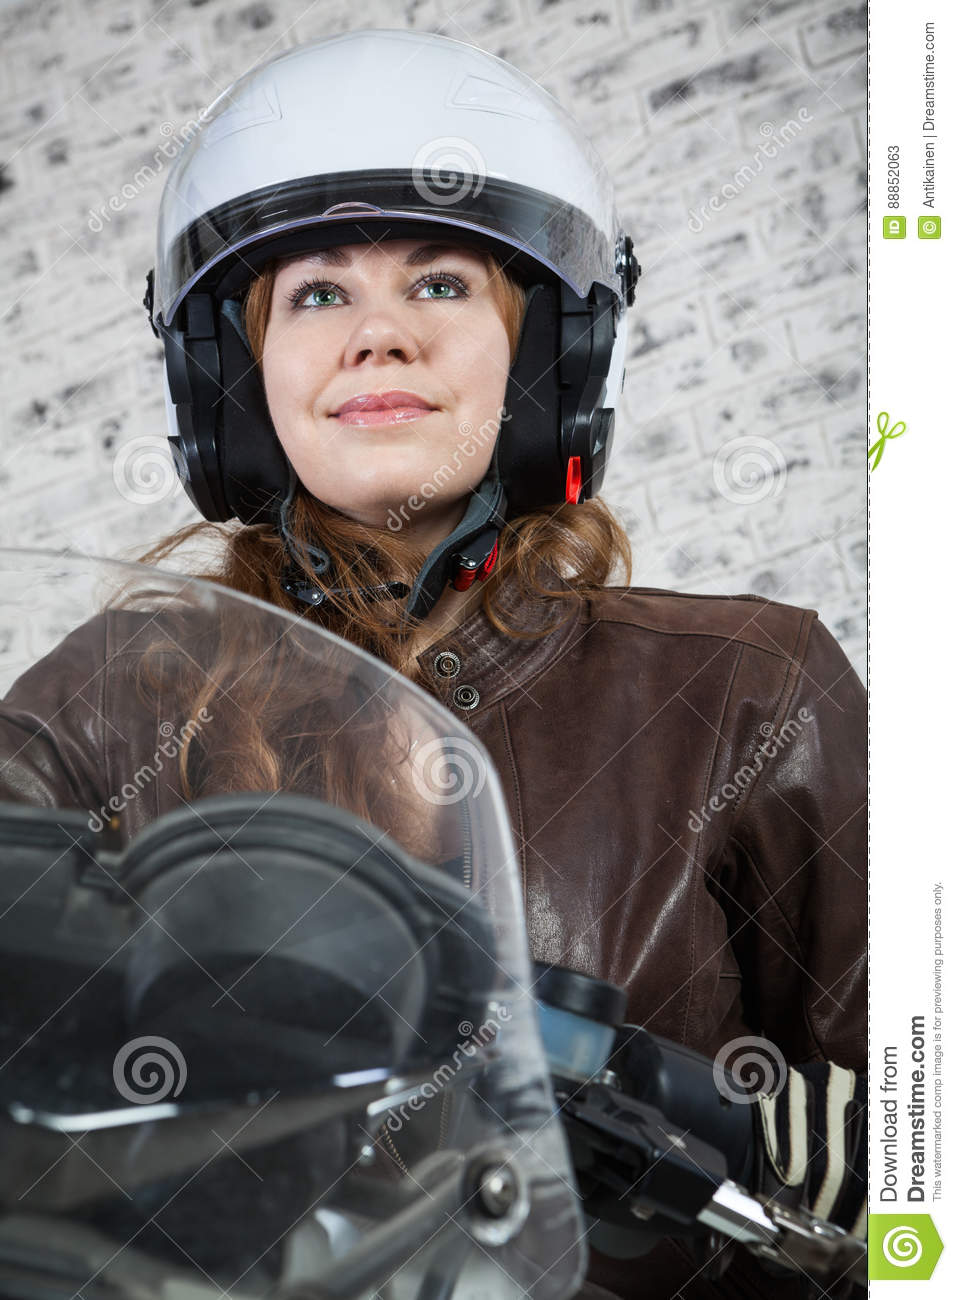helmet: (104, 19, 644, 351)
